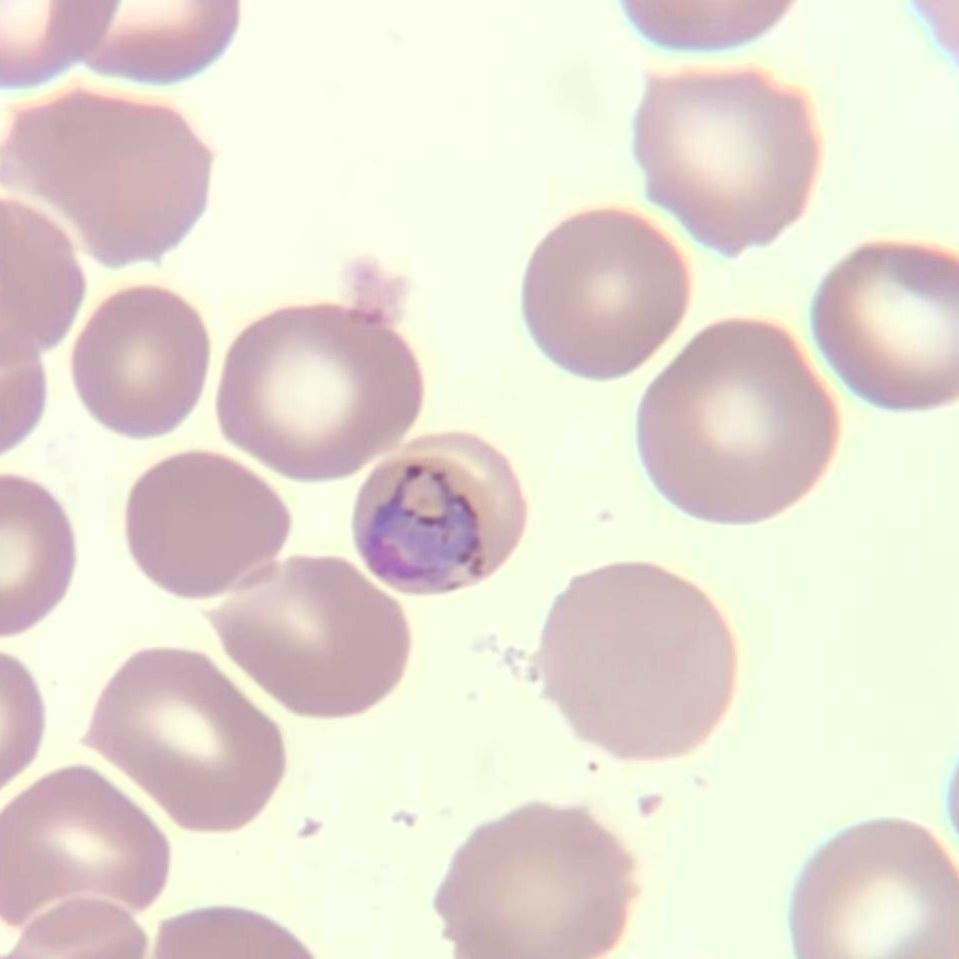Infected: (352, 430, 527, 596)
Uninfected: (636, 316, 841, 524), (538, 562, 735, 764), (82, 644, 287, 833), (0, 92, 215, 268), (630, 68, 819, 257), (216, 308, 422, 481), (210, 556, 407, 719), (436, 804, 636, 959), (520, 210, 690, 382), (0, 764, 172, 932), (806, 238, 959, 412), (122, 452, 290, 598), (788, 818, 959, 959), (68, 284, 210, 439)
